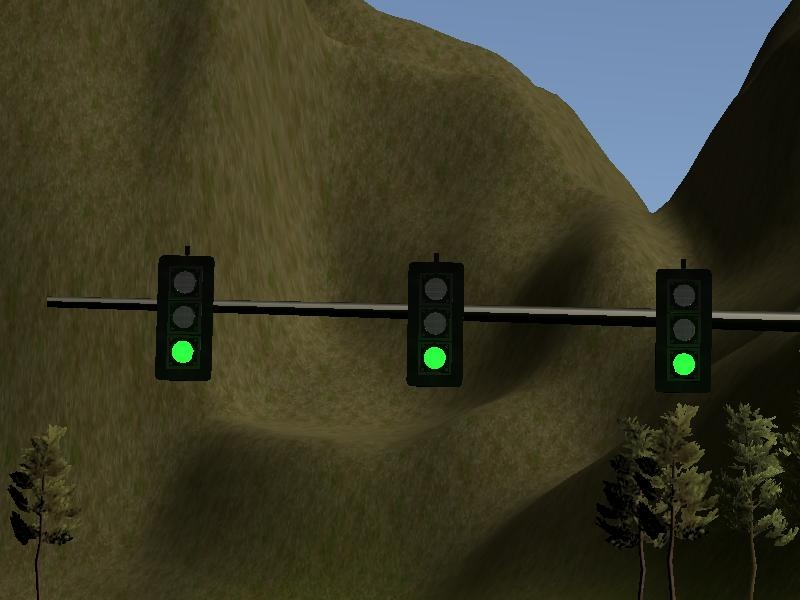GREEN: (155, 255, 214, 379), (408, 260, 462, 385), (655, 268, 710, 389)
